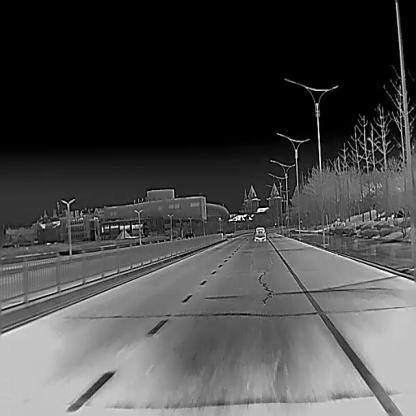car: (252, 225, 266, 241), (182, 232, 196, 244)
